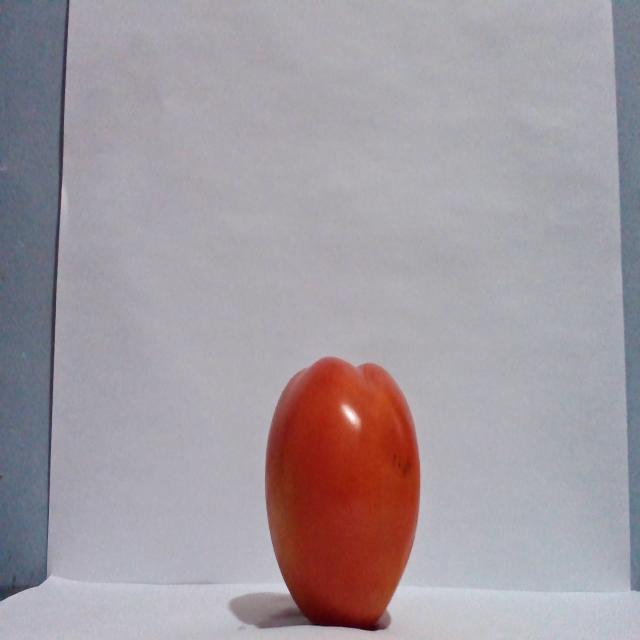Red: (263, 354, 422, 629)
